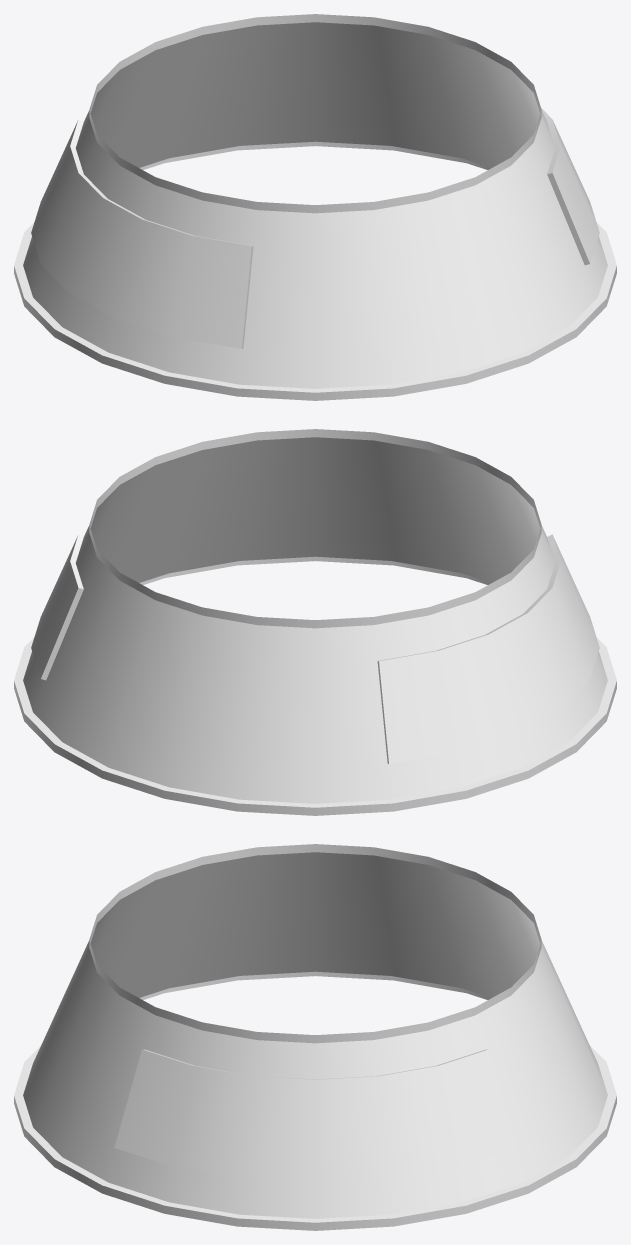
Rendered from acamar_adapter_s2_s1p5_1.obj.
3 renders of one model, top to bottom at view 1: azimuth 30°, elevation 25°; view 2: azimuth 150°, elevation 25°; view 3: azimuth 270°, elevation 25°, orthographic.
Parts seen in each view (by area): view 1: mesh1; view 2: mesh1; view 3: mesh1.
Part boxes in pixels (box(x1,y1,x2,y2)): mesh1: box(14, 14, 616, 400); mesh1: box(14, 429, 616, 815); mesh1: box(14, 844, 616, 1230).
Bounding box in the file's own units: 2.5 × 0.75 × 2.5.
